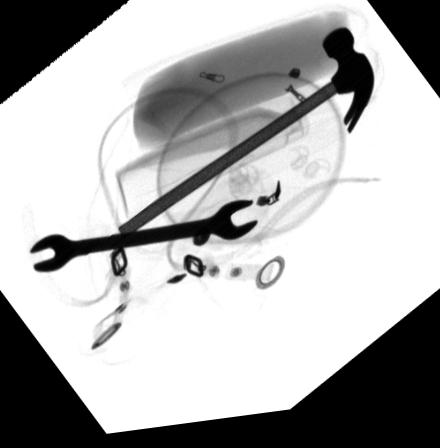Hammer: (113, 35, 372, 245)
Wrench: (29, 207, 257, 272)
